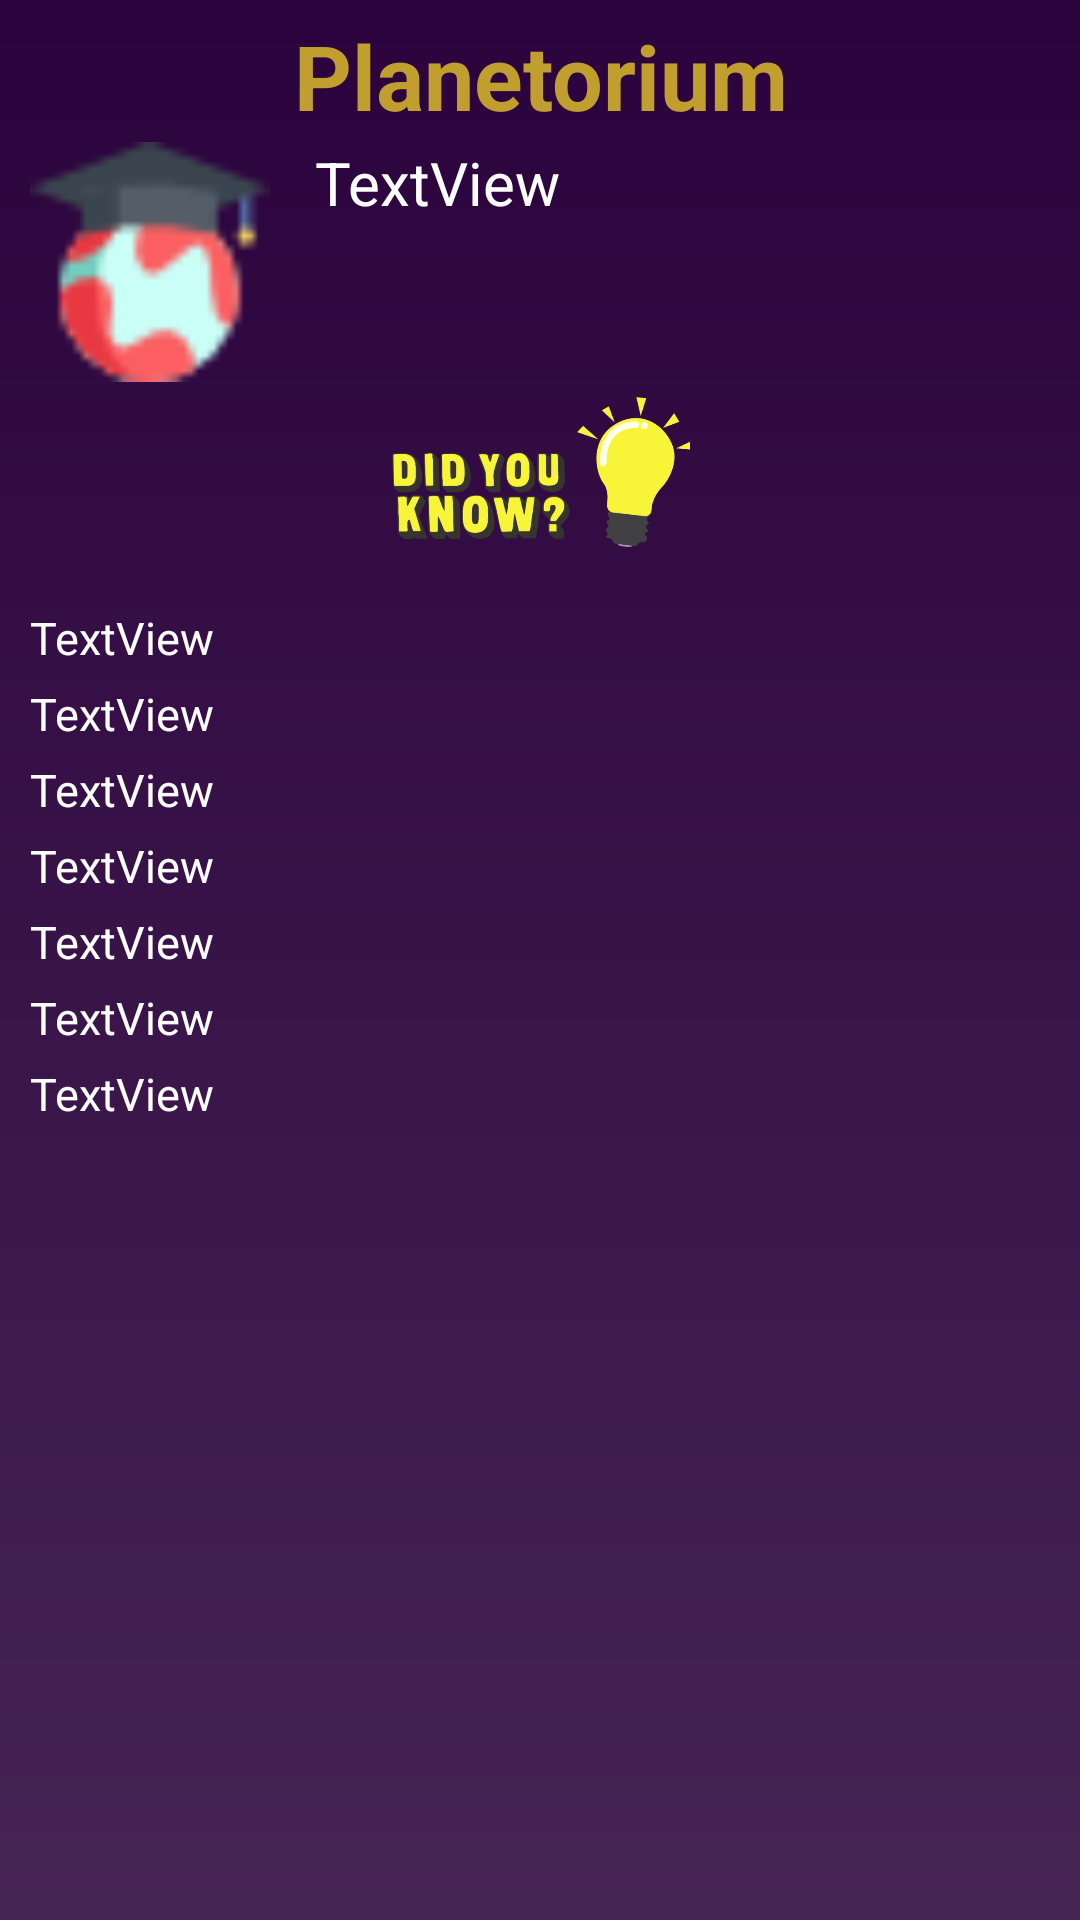

Named icons in this screenshot (1080 x 1920) and their centers, (x,y):
earth: (149,262)
